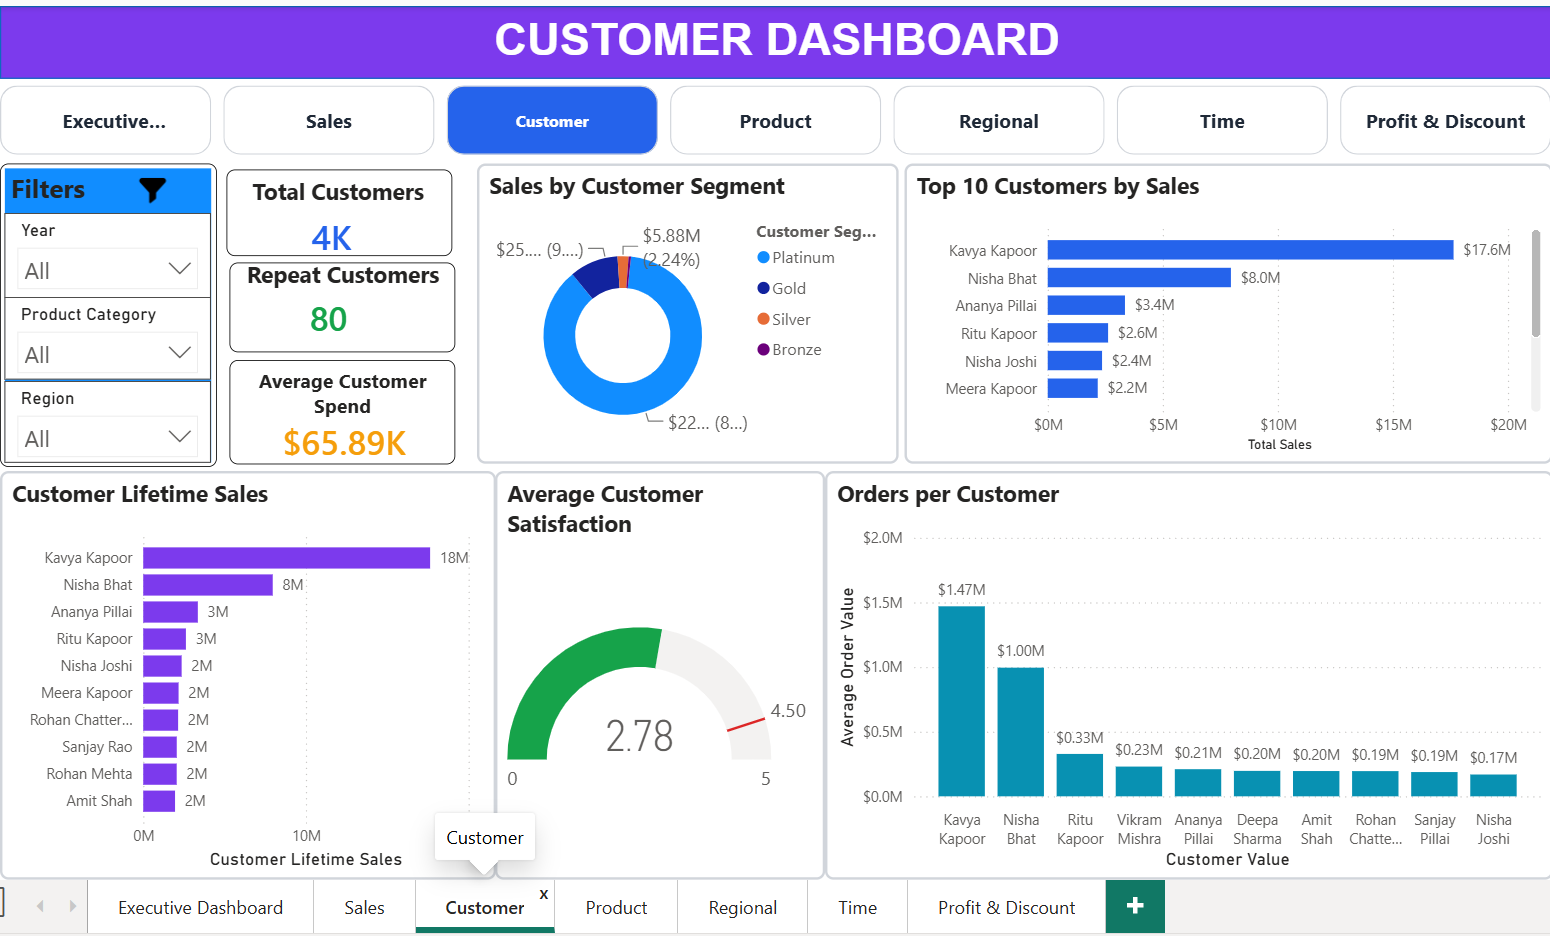

This screenshot's page, from the dashboard's own definition file:
{"tool":"powerbi","page":{"name":"Customer","canvas":[1280,720],"ordinal":2},"visuals":[{"type":"shape","box":[0,0,1280,60],"z":0},{"type":"textbox","box":[393.3,0,495,60],"z":1000},{"type":"clusteredBarChart","title":"Top 10 Customers by Sales","fields":{"Category":["retail_sales_final.customer_name"],"Y":["Measures (2).Total Sales"]},"box":[745.7,130,534.3,247.1],"z":2000},{"type":"donutChart","title":"Sales by Customer Segment","fields":{"Category":["retail_sales_final.customer_segment"],"Y":["Measures (2).Total Sales"]},"box":[392.9,130,347.1,247.1],"z":3000},{"type":"clusteredBarChart","title":"Customer Lifetime Sales","fields":{"Category":["retail_sales_final.customer_name"],"Y":["Measures (2).Customer Lifetime Sales"]},"box":[0,383.3,408.3,336.7],"z":4000},{"type":"gauge","title":"Average Customer Satisfaction","fields":{"MaxValue":["Measures (2).Maximum Value"],"MinValue":["Measures (2).Minimum Value"],"TargetValue":["Measures (2).Target Satisfaction"],"Y":["Measures (2).Average Customer Satisfaction"]},"box":[408.3,383.3,271.7,336.7],"z":5000},{"type":"clusteredColumnChart","title":"Orders per Customer","fields":{"Category":["retail_sales_final.customer_name"],"Y":["Measures (2).Average Order Value"]},"box":[680,383.3,600,336.7],"z":6000},{"type":"shape","box":[0,130,178.6,250],"z":7000},{"type":"slicer","title":"Year","fields":{"Values":["DateTable.Year"]},"box":[4.3,170,170,70],"z":8000},{"type":"slicer","title":"Region","fields":{"Values":["retail_sales_final.region"]},"box":[4.3,308.6,170,67],"z":9000},{"type":"slicer","title":"Category","fields":{"Values":["retail_sales_final.product_category"]},"box":[4.3,240,170,68],"z":10000},{"type":"textbox","box":[4.3,130,71.7,41.7],"z":11000},{"type":"image","box":[100,138.6,51.7,26],"z":12000},{"type":"cardVisual","fields":{"Data":["Measures (2).Total Customers"]},"box":[232.9,164.3,83,49],"z":12500},{"type":"shape","box":[187.1,134.3,185.7,71.4],"z":13000},{"type":"textbox","box":[184.3,134.3,189,36],"z":14000},{"type":"cardVisual","fields":{"Data":["Measures (2).Average Customer Spend"]},"box":[207.1,332.9,152,50],"z":15000},{"type":"cardVisual","fields":{"Data":["Measures (2).Repeat Customers"]},"box":[231.4,230,85,51],"z":15500},{"type":"textbox","box":[187.1,202.9,192,46.7],"z":16000},{"type":"textbox","box":[192.9,291.4,179,55],"z":17000},{"type":"shape","box":[188.6,211.6,185.7,74],"z":20000},{"type":"shape","box":[188.6,291.4,185.7,85.7],"z":21000},{"type":"pageNavigator","box":[0,65.7,1280,57.1],"z":22000}]}

Visuals, with their boxes on the page's 1280x720 design canvas (x1, y1, x2, y2). These are canvas units, not pixel positions in the 1550x936 screenshot, which may show the page scaled, cropped or inside an application window:
shape: [0,0,1280,60]
textbox: [393,0,888,60]
"Top 10 Customers by Sales" clusteredBarChart: [746,130,1280,377]
"Sales by Customer Segment" donutChart: [393,130,740,377]
"Customer Lifetime Sales" clusteredBarChart: [0,383,408,720]
"Average Customer Satisfaction" gauge: [408,383,680,720]
"Orders per Customer" clusteredColumnChart: [680,383,1280,720]
shape: [0,130,179,380]
"Year" slicer: [4,170,174,240]
"Region" slicer: [4,309,174,376]
"Category" slicer: [4,240,174,308]
textbox: [4,130,76,172]
image: [100,139,152,165]
cardVisual - Measures (2).Total Customers: [233,164,316,213]
shape: [187,134,373,206]
textbox: [184,134,373,170]
cardVisual - Measures (2).Average Customer Spend: [207,333,359,383]
cardVisual - Measures (2).Repeat Customers: [231,230,316,281]
textbox: [187,203,379,250]
textbox: [193,291,372,346]
shape: [189,212,374,286]
shape: [189,291,374,377]
pageNavigator: [0,66,1280,123]
